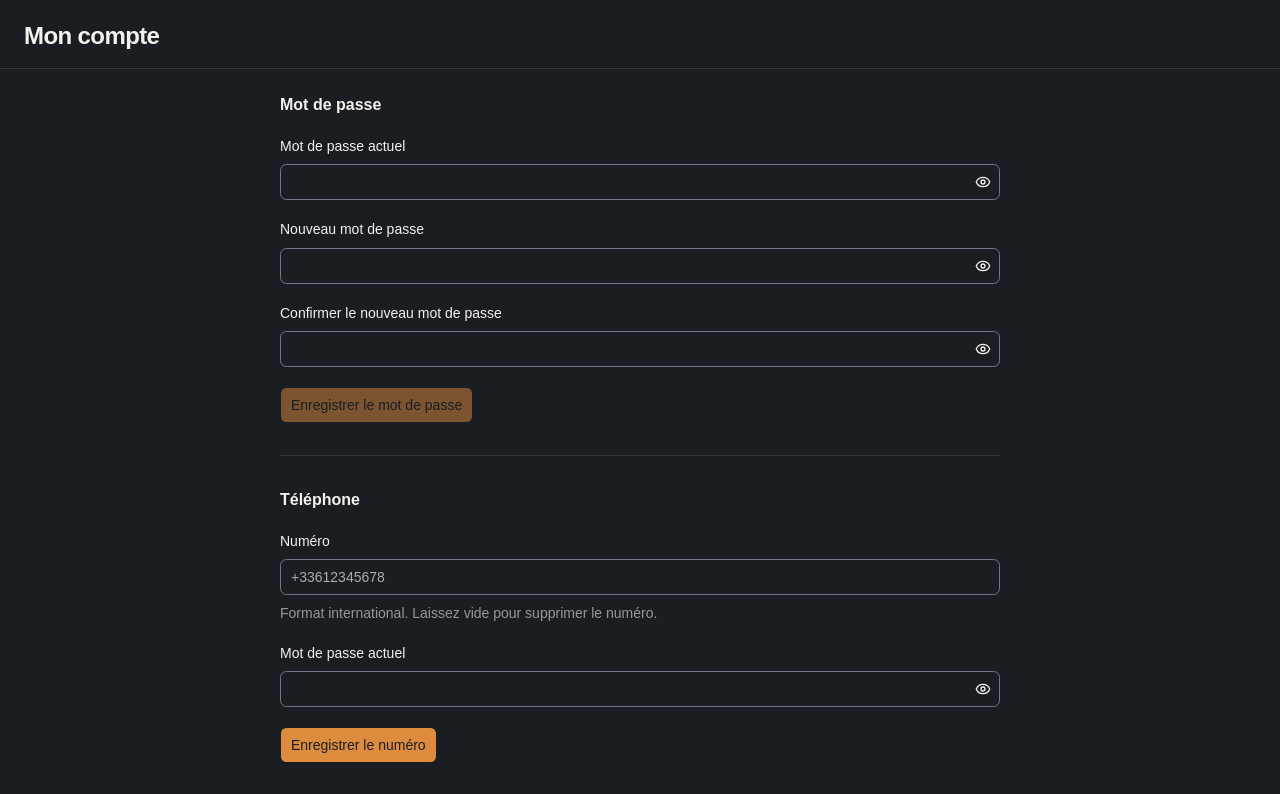
Account (KAN-152, FR9, FR10) › treats an empty phone submission as a valid "clear the number" action (FR13)
Expected: the element with test id "account-phone-section" is shown, [280,488,1000,763]
Clear the field with test id "account-phone-number". click: x=640, y=577
box: [280,559,1000,595]
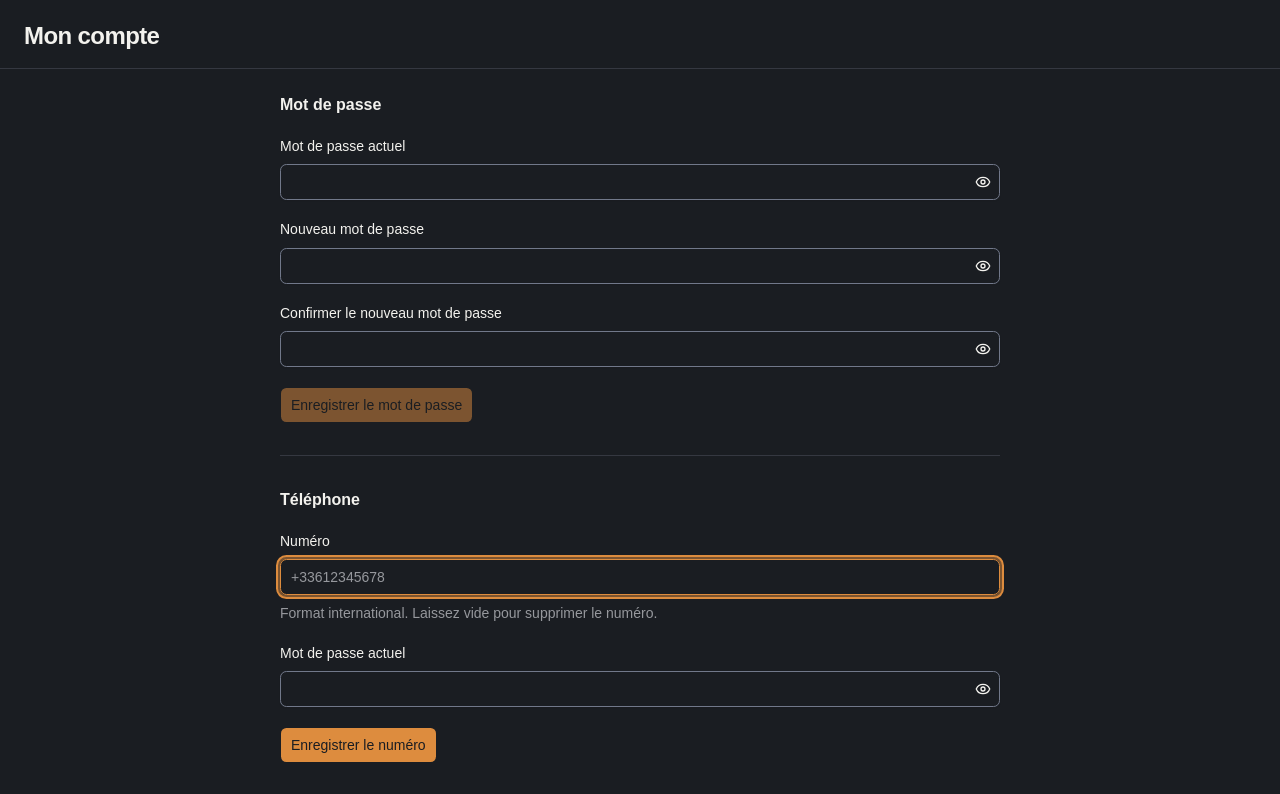
Type "pw" into the password field with test id "account-phone-current-password". click: x=626, y=689
box: [281,671,971,707]
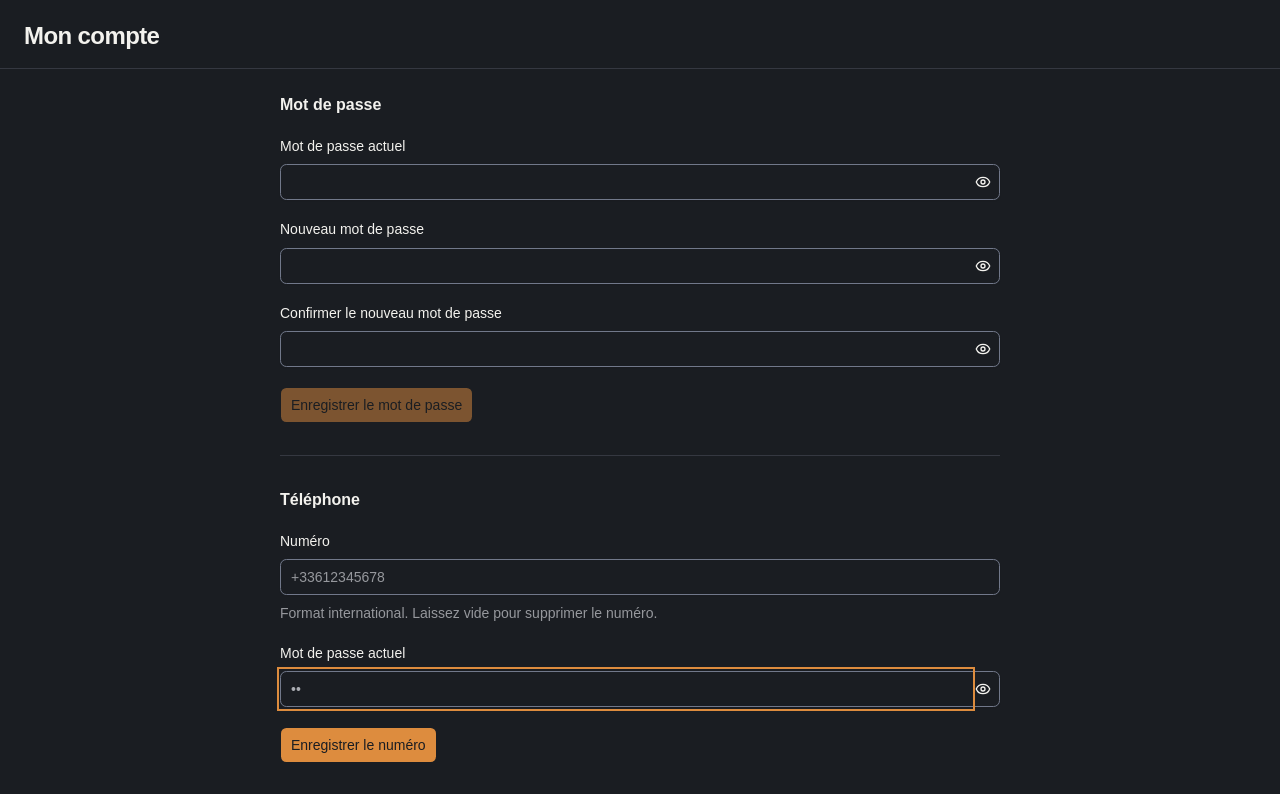
Click the button with test id "account-phone-submit". click: x=358, y=745
box: [280,727,437,763]
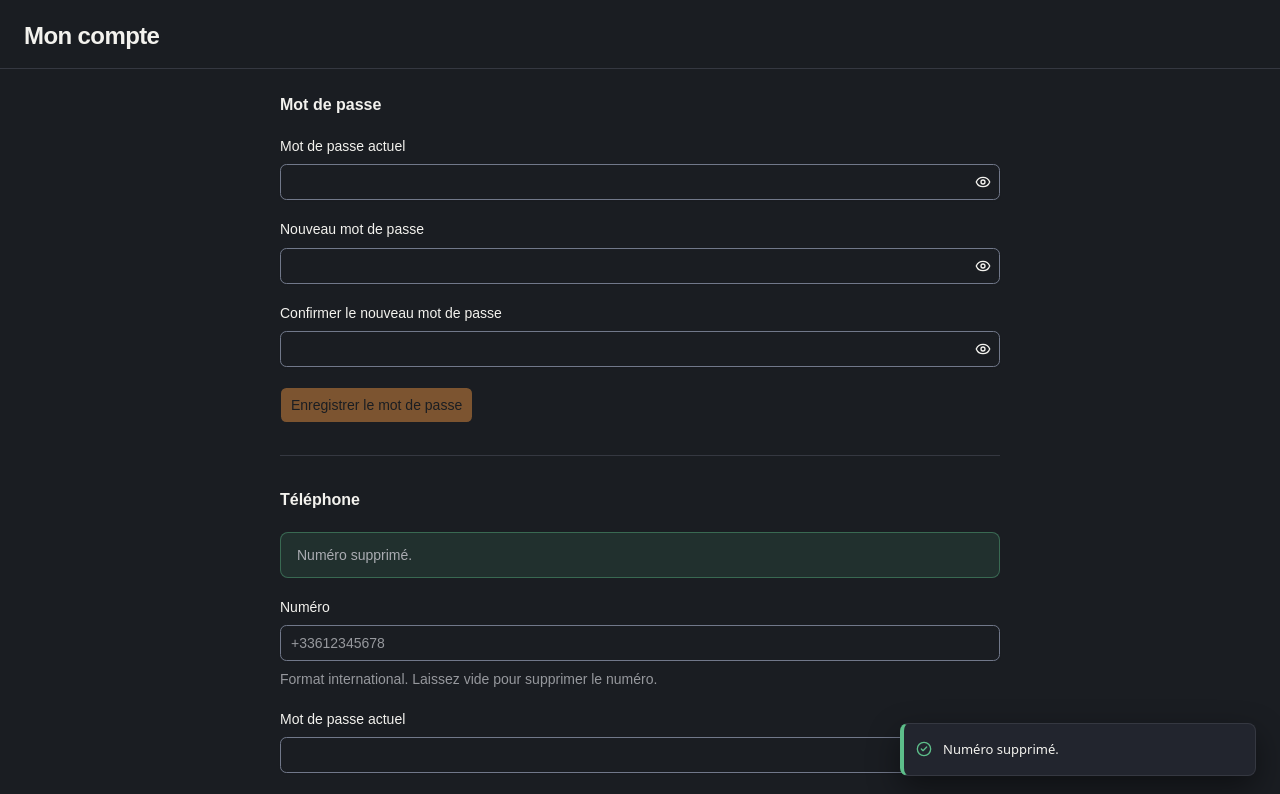
Result: the message with test id "account-phone-success" reads "Numéro supprimé." at [297,547,412,563]
